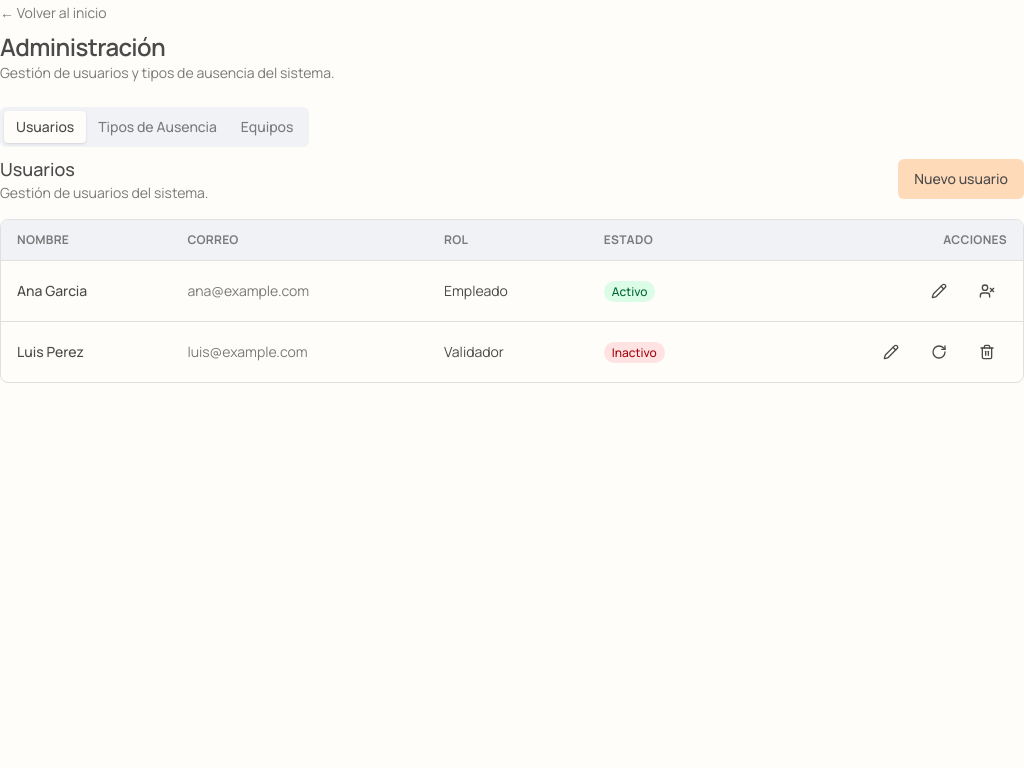
Test case: AdminPage users tab › shows conflict error when permanent delete returns 409
Click the button named "Eliminar usuario Luis Perez" at (987, 352), box [967,334,1007,370]
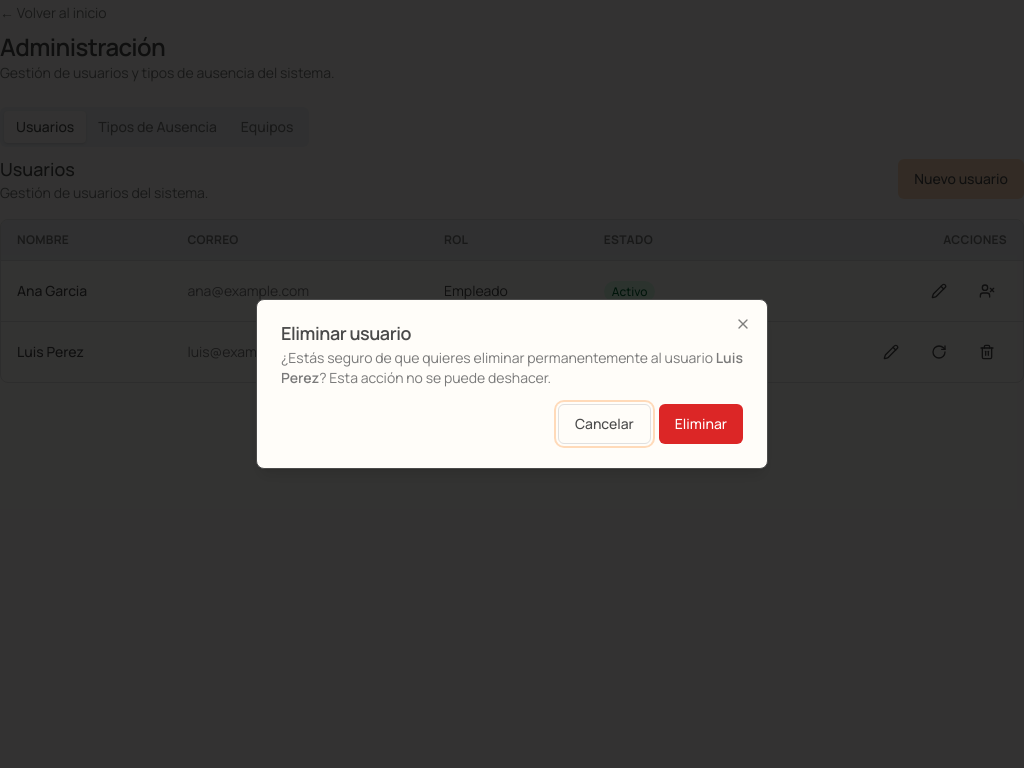
Click the button "Eliminar" at (701, 424), box [659,404,743,444]
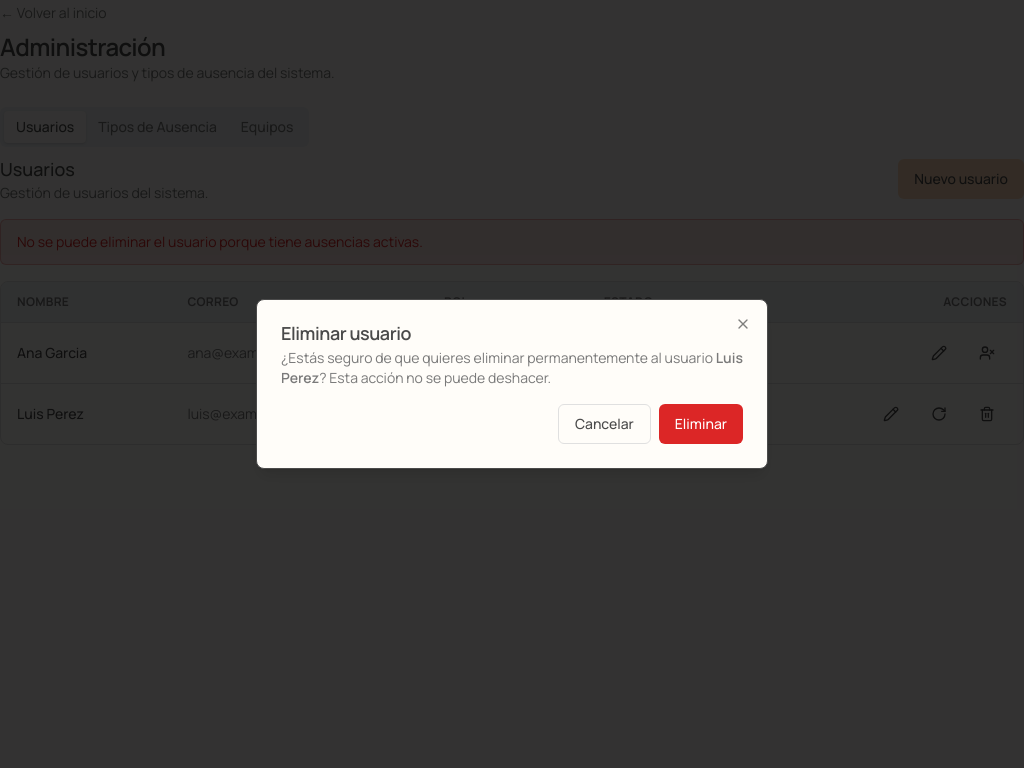
expect the text "No se puede eliminar el usuario porque tiene ausencias activas." is shown: met, box [0,219,1023,265]
